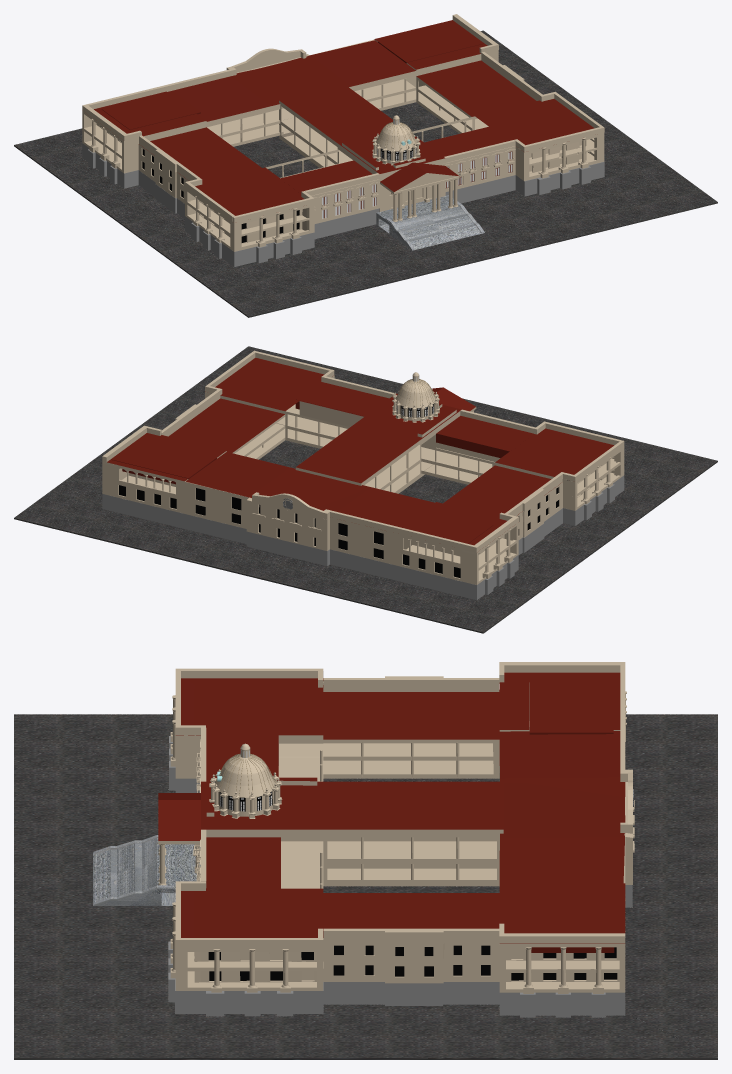
The model's file is palacio nacional terminada.fbx.
The picture shows the model from 3 angles, top to bottom: view 1: azimuth 30°, elevation 25°; view 2: azimuth 150°, elevation 25°; view 3: azimuth 270°, elevation 25°; orthographic projection. The views are drawn at different scales.
Visible parts, largest first — view 1: Plane.014, Cube.004, Cube.002, Cube, Cube.038, Cube.036, Cube.003, Cube.039, Cube.042, Cube.043, Cube.001, Cube.040 (+2 smaller); view 2: Plane.014, Cube.002, Cube.004, Cube.038, Cube, Cube.036, Cube.039, Cube.040, Cube.042, Cube.043, Cube.041, Circle (+1 smaller); view 3: Plane.014, Cube.004, Cube.002, Cube, Cube.038, Cube.036, Cube.039, Cube.003, Cube.042, Cube.043, Cube.041, Circle (+2 smaller).
Boxes of the visible parts, x1,y1,x2,y2 form: Plane.014: [14, 30, 717, 317]; Cube.004: [252, 20, 604, 191]; Cube.002: [82, 69, 379, 251]; Cube: [279, 84, 445, 211]; Cube.038: [82, 143, 604, 266]; Cube.036: [82, 48, 379, 222]; Cube.003: [376, 195, 484, 250]; Cube.039: [306, 14, 604, 163]; Cube.042: [378, 23, 483, 63]; Cube.043: [101, 92, 200, 129]; Cube.001: [380, 162, 459, 194]; Cube.040: [280, 160, 372, 193]; Plane.014: [14, 346, 717, 633]; Cube.002: [252, 428, 624, 584]; Cube.004: [102, 357, 365, 549]; Cube.038: [102, 475, 624, 600]; Cube: [295, 393, 461, 493]; Cube.036: [252, 409, 624, 552]; Cube.039: [102, 350, 394, 501]; Cube.040: [436, 415, 533, 458]; Cube.042: [111, 438, 216, 484]; Cube.043: [396, 508, 492, 543]; Cube.041: [295, 381, 389, 416]; Circle: [395, 372, 435, 420]; Plane.014: [14, 714, 717, 1059]; Cube.004: [175, 782, 634, 992]; Cube.002: [175, 672, 634, 847]; Cube: [201, 777, 503, 886]; Cube.038: [168, 736, 632, 1017]; Cube.036: [175, 662, 632, 833]; Cube.039: [175, 829, 632, 947]; Cube.003: [93, 835, 200, 905]; Cube.042: [528, 883, 614, 952]; Cube.043: [529, 680, 613, 734]; Cube.041: [206, 837, 279, 891]; Circle: [215, 743, 275, 816].
Size of the model in its own units: 12089 by 2244 by 10460.
Materials: 243 (2 with a texture image).
